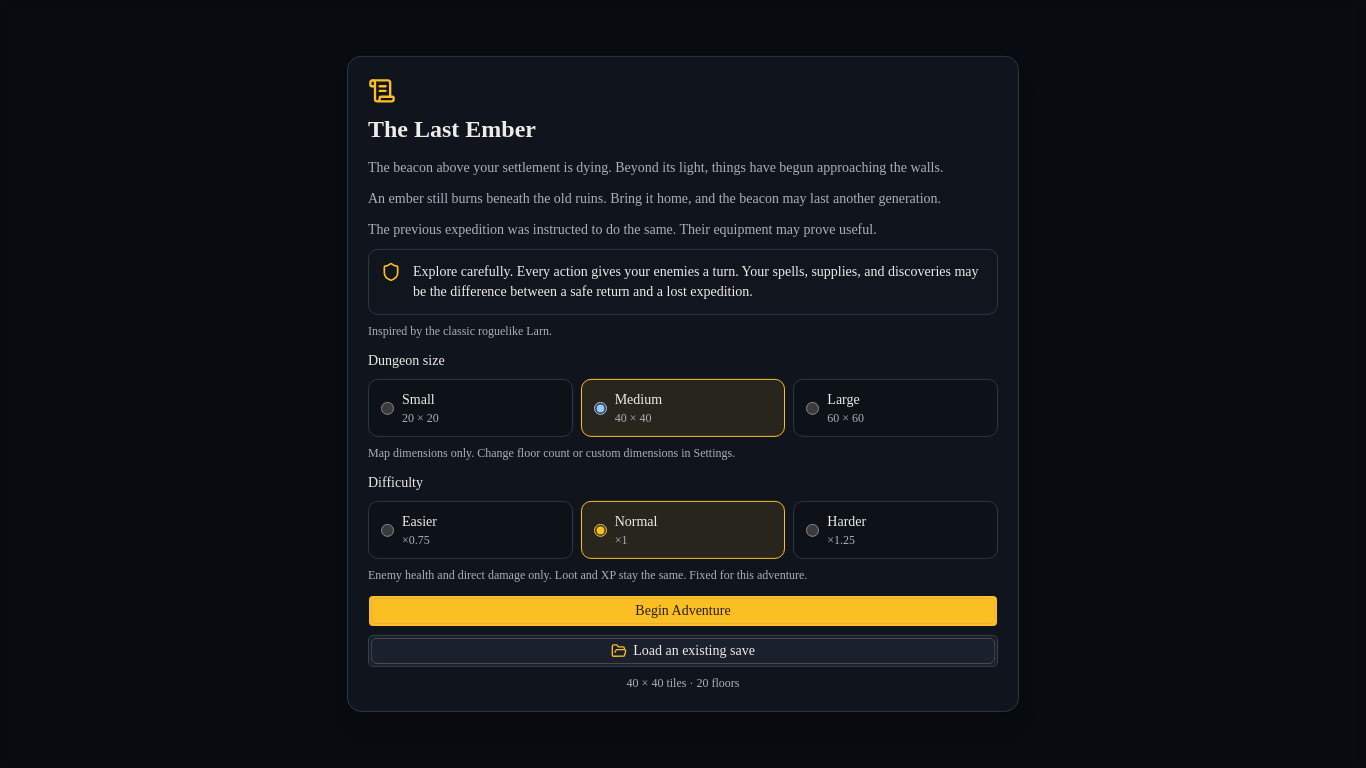
Test: keeps the opening intact when the local save is corrupt
Click the button "Load an existing save". click: coordinates (683, 651)
box: [368,635,998,667]
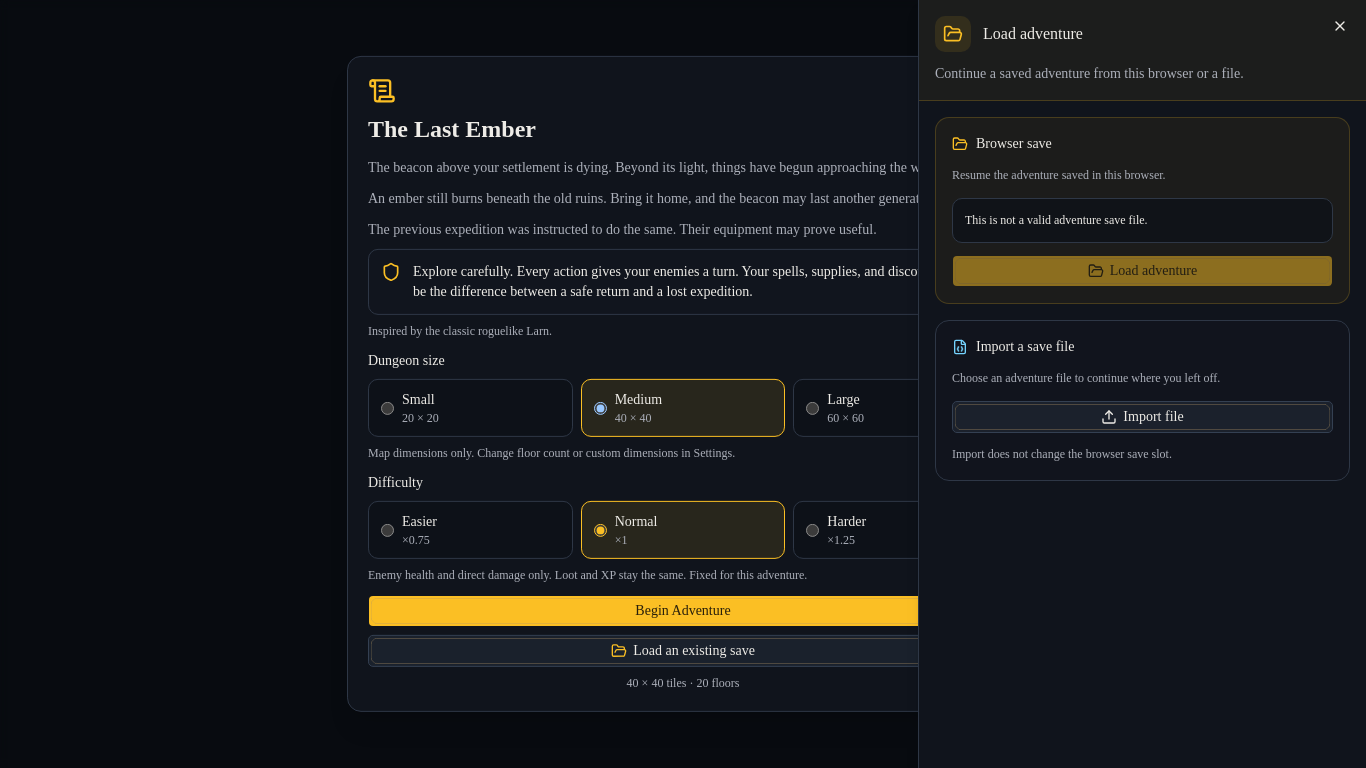
Check: the element named "Adventure saves" shows "not a valid adventure save", box [965,212,1148,226]
Check: the button "Load adventure" is disabled, box [952,255,1333,287]
